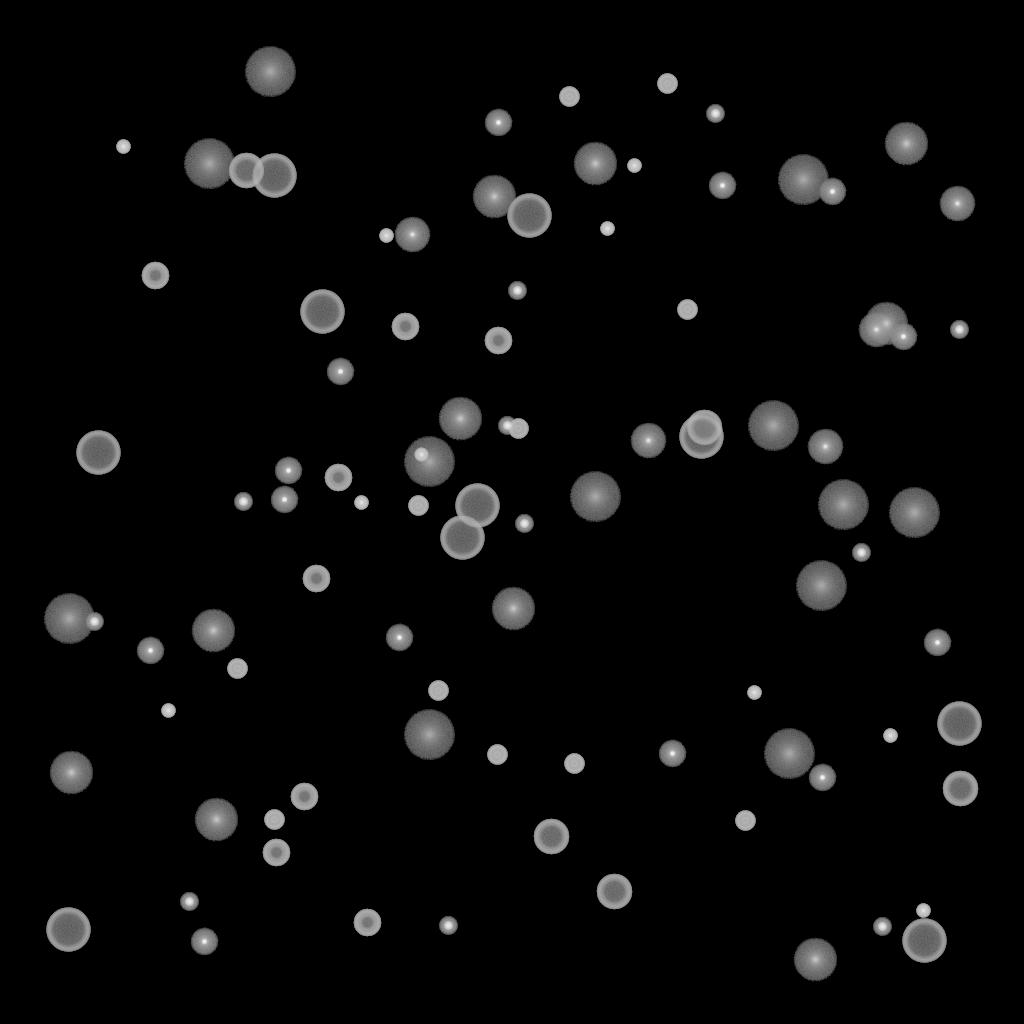depth:-10: (808, 764, 836, 792), (923, 629, 951, 657), (136, 637, 164, 665), (889, 323, 917, 351), (658, 740, 686, 768), (270, 486, 298, 514), (818, 178, 846, 206), (484, 109, 512, 137), (190, 928, 218, 956), (326, 358, 354, 386), (708, 172, 736, 200), (274, 457, 302, 485), (385, 624, 413, 652)
depth:-20: (706, 105, 724, 123), (85, 613, 103, 631), (950, 321, 968, 339), (498, 417, 516, 435), (508, 282, 526, 300), (873, 918, 891, 936), (234, 493, 252, 511), (852, 544, 870, 562), (439, 917, 457, 935), (180, 893, 198, 911), (515, 515, 533, 533)
depth:-30: (883, 729, 897, 743), (354, 496, 368, 510), (116, 140, 130, 154), (379, 229, 393, 243), (627, 159, 641, 173), (161, 704, 175, 718), (600, 222, 614, 236), (414, 448, 428, 462), (747, 686, 761, 700), (916, 904, 930, 918)
depth:-40: (487, 745, 507, 765), (227, 659, 247, 679), (408, 496, 428, 516), (559, 87, 579, 107), (657, 74, 677, 94), (264, 810, 284, 830), (564, 754, 584, 774), (428, 681, 448, 701), (508, 419, 528, 439), (735, 811, 755, 831), (677, 300, 697, 320)
depth:-50: (484, 327, 512, 355), (290, 783, 318, 811), (353, 909, 381, 937), (262, 839, 290, 867), (302, 565, 330, 593), (324, 464, 352, 492), (391, 313, 419, 341), (141, 262, 169, 290)
depth:-60: (596, 874, 632, 910), (942, 771, 978, 807), (686, 410, 722, 446), (228, 153, 264, 189), (533, 819, 569, 855)
depth:-70: (679, 415, 723, 459), (76, 431, 120, 475), (300, 290, 344, 334), (937, 702, 981, 746), (440, 516, 484, 560), (455, 484, 499, 528), (507, 194, 551, 238), (902, 919, 946, 963), (46, 908, 90, 952), (252, 154, 296, 198)
depth:0: (939, 186, 975, 222), (394, 217, 430, 253), (630, 423, 666, 459), (858, 312, 894, 348), (807, 429, 843, 465)
depth:10: (884, 122, 928, 166), (491, 587, 535, 631), (438, 397, 482, 441), (194, 798, 238, 842), (573, 142, 617, 186), (793, 938, 837, 982), (49, 751, 93, 795), (191, 609, 235, 653), (864, 302, 908, 346), (472, 175, 516, 219)
depth:20: (403, 437, 455, 487), (747, 401, 799, 451), (183, 139, 235, 189), (43, 594, 95, 644), (817, 480, 869, 530), (777, 155, 829, 205), (403, 710, 455, 760), (888, 488, 940, 538), (569, 472, 621, 522), (244, 47, 296, 97), (763, 729, 815, 779), (795, 561, 847, 611)
